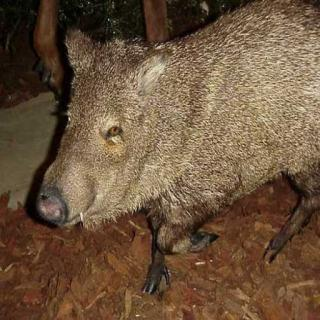Pig: (31, 0, 320, 277)
